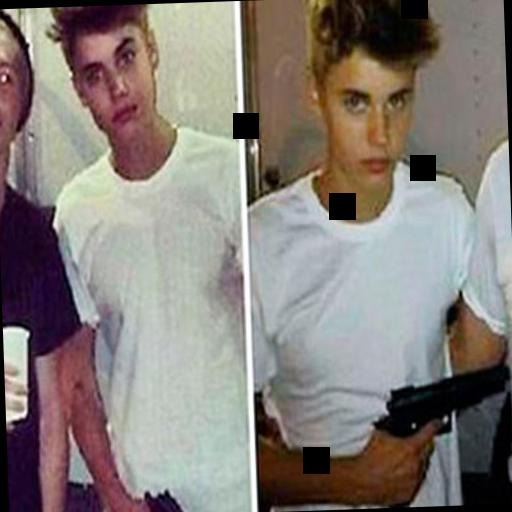Handgun: (366, 359, 512, 502)
